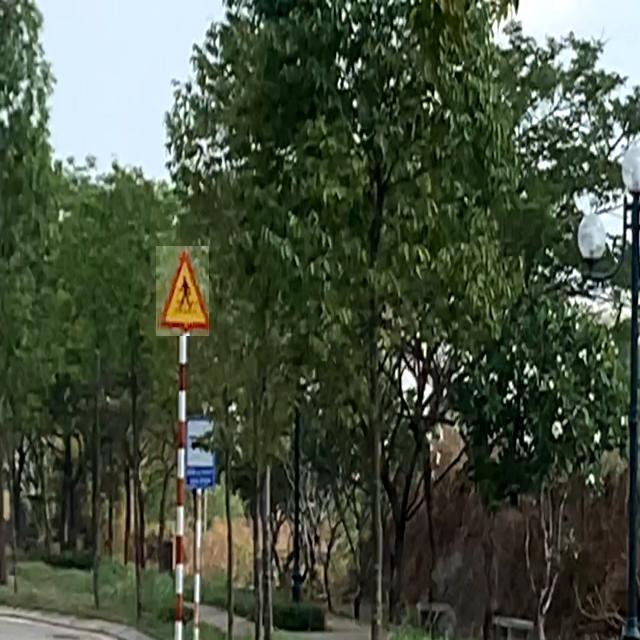W-224: (156, 246, 209, 336)
